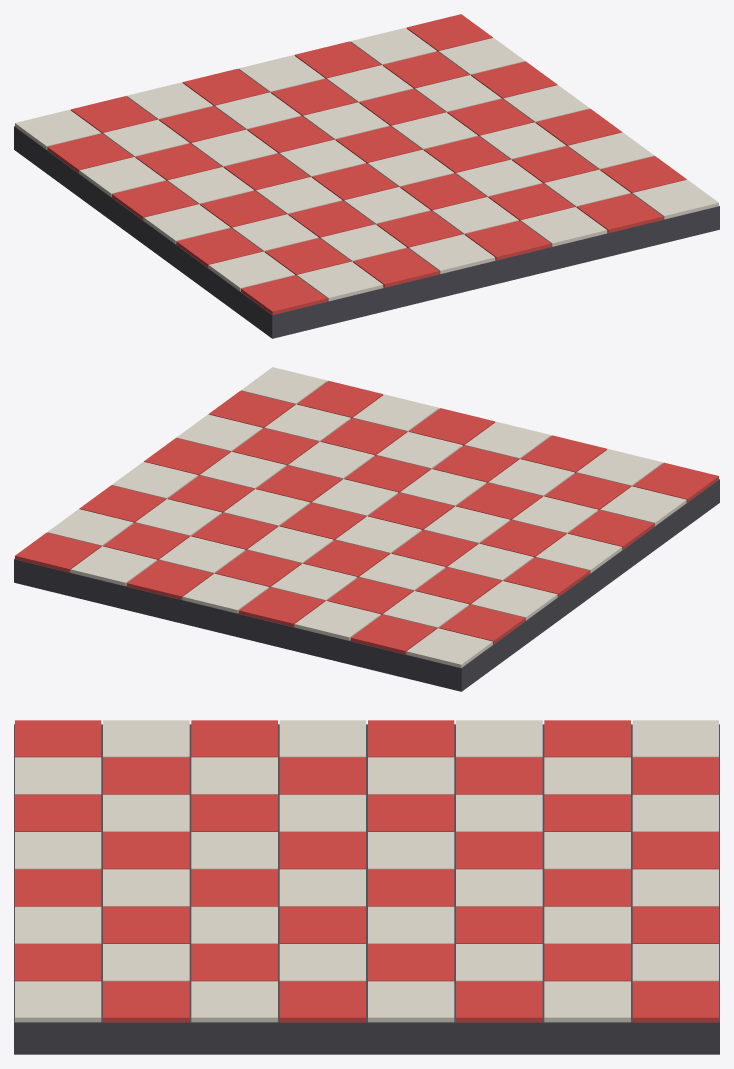
Rendered from floor_mp_check.glb.
3 renders of one model, top to bottom at view 1: azimuth 30°, elevation 25°; view 2: azimuth 150°, elevation 25°; view 3: azimuth 270°, elevation 25°, orthographic. The views are drawn at different scales.
Visible parts, largest first — view 1: floor_mp_check; view 2: floor_mp_check; view 3: floor_mp_check.
Part boxes in pixels (x1,y1,x2,y2): floor_mp_check: (14,14,719,338); floor_mp_check: (14,367,719,691); floor_mp_check: (14,720,719,1054).
Size of the model in its own units: 4 by 0.229 by 4.
